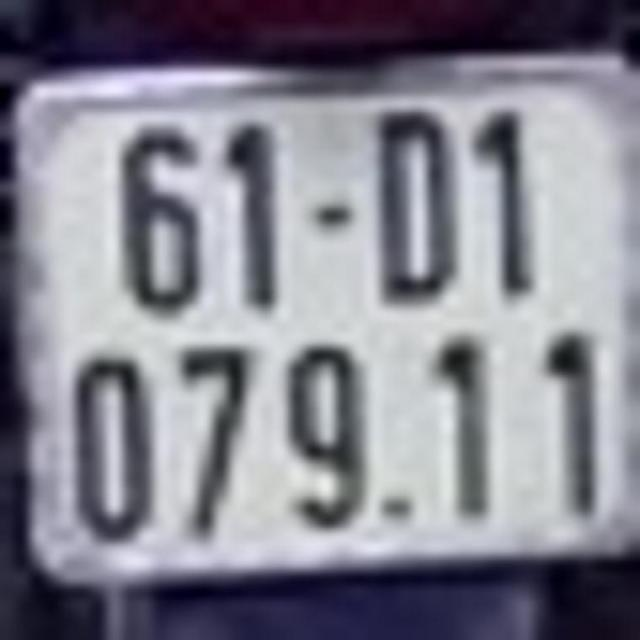0: (72, 354, 155, 543)
1: (471, 95, 546, 291), (224, 120, 290, 309), (542, 324, 606, 516), (434, 329, 497, 513)
6: (120, 120, 203, 313)
7: (174, 343, 254, 538)
9: (278, 335, 373, 528)
D: (373, 112, 462, 299)
